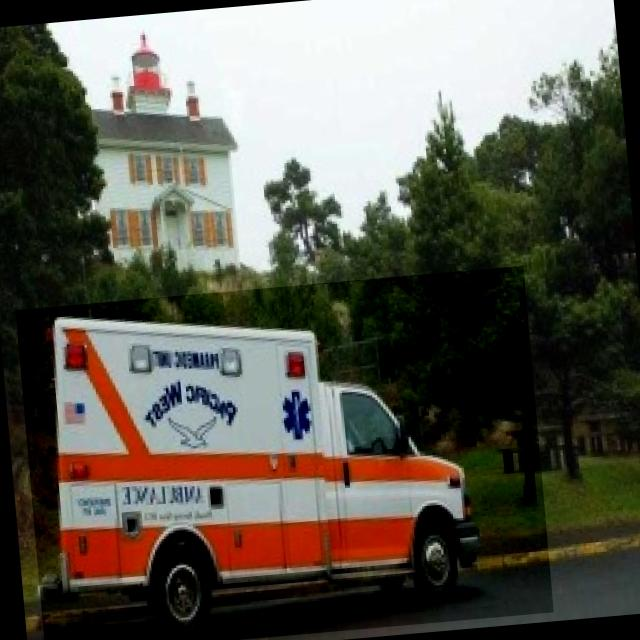ambulance: (15, 265, 553, 640)
